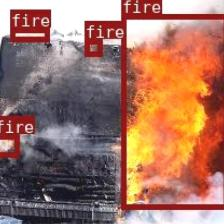fire: (120, 14, 224, 208), (10, 27, 48, 40), (0, 133, 18, 156), (83, 38, 101, 55)
